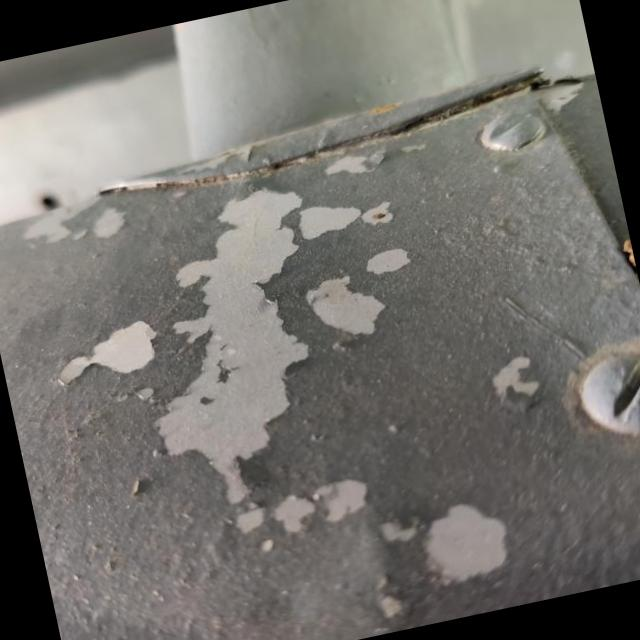Paint-off: (158, 172, 407, 507), (423, 504, 517, 600), (52, 317, 155, 390)
